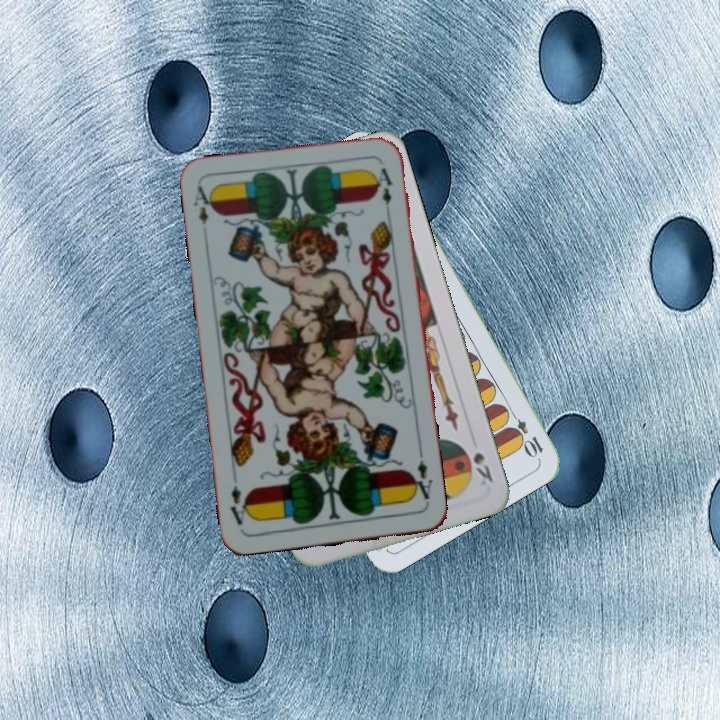E10: (504, 405, 546, 460)
EA: (407, 456, 435, 507), (189, 182, 217, 227)
SK: (469, 448, 496, 489)
